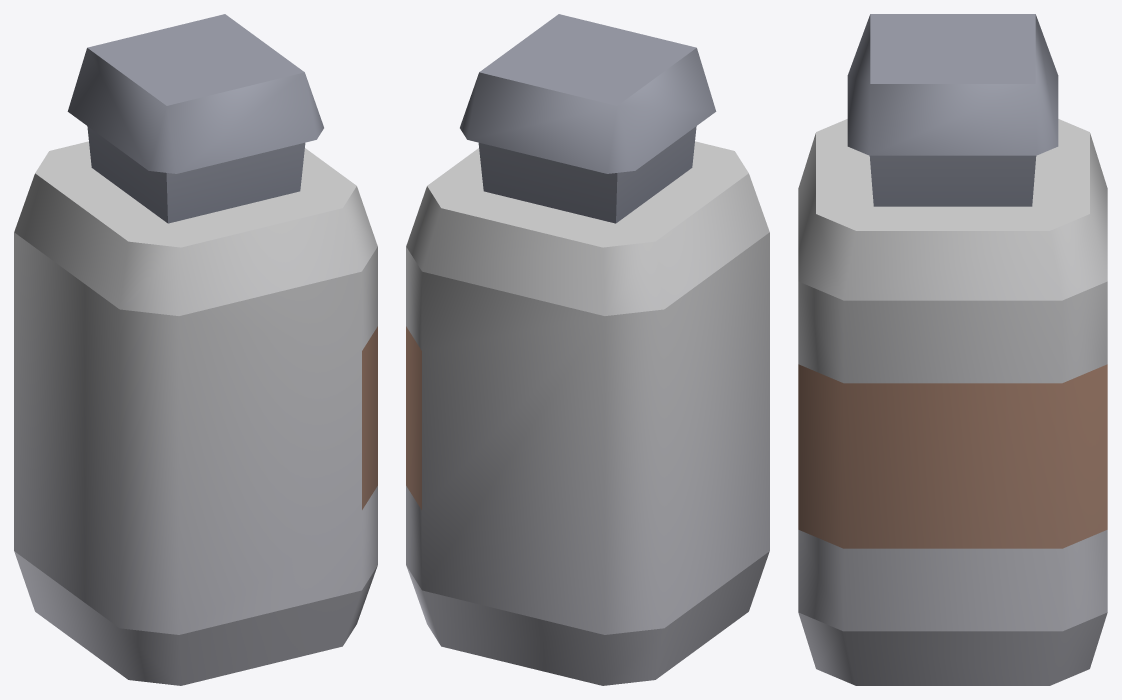
File: shaker-pepper.glb
3 views of the same model, side by side, from view 1: azimuth 30°, elevation 25°; view 2: azimuth 150°, elevation 25°; view 3: azimuth 270°, elevation 25° (orthographic). The views are drawn at different scales.
Visible parts, largest first — view 1: shaker-pepper; view 2: shaker-pepper; view 3: shaker-pepper.
Boxes of the visible parts, box(x1,y1,x2,y2) form: shaker-pepper: box(14, 14, 377, 685); shaker-pepper: box(406, 14, 769, 685); shaker-pepper: box(798, 14, 1107, 685).
Size of the model in its own units: 0.0949 by 0.196 by 0.0949.
